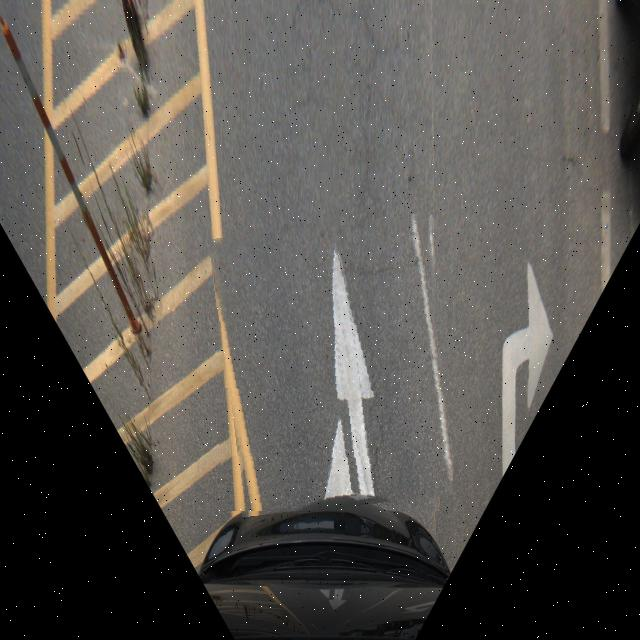forward_left: (216, 219, 453, 511)
